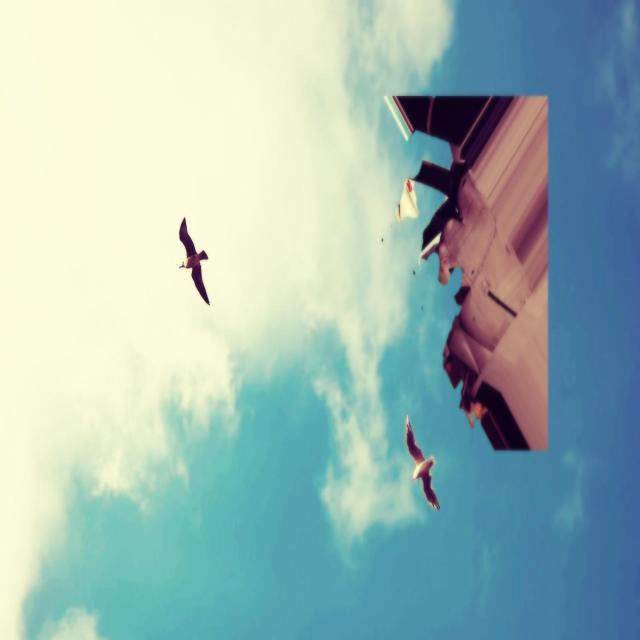airplane: (383, 92, 549, 451)
